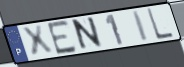1: (105, 13, 126, 47)
E: (45, 19, 79, 57)
I: (131, 9, 150, 43)
L: (145, 7, 176, 42)
N: (72, 15, 104, 53)
X: (19, 24, 56, 59)
